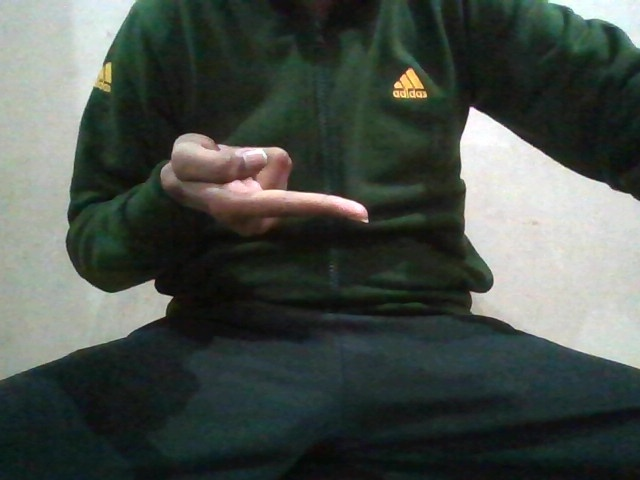X: (152, 134, 386, 250)
